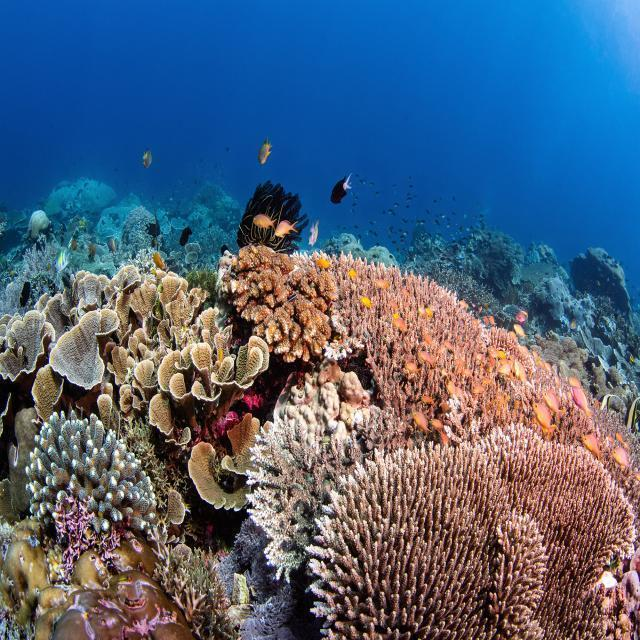Healthy Coral: (306, 423, 640, 640), (0, 260, 272, 440), (254, 378, 351, 604), (152, 343, 260, 522), (19, 406, 154, 548), (229, 242, 335, 358)
